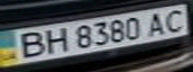0: (124, 15, 148, 40)
3: (90, 20, 112, 47)
8: (72, 21, 93, 51), (109, 16, 127, 44)
A: (142, 10, 172, 37)
B: (9, 29, 51, 60)
C: (157, 7, 190, 34)
H: (39, 25, 72, 54)
